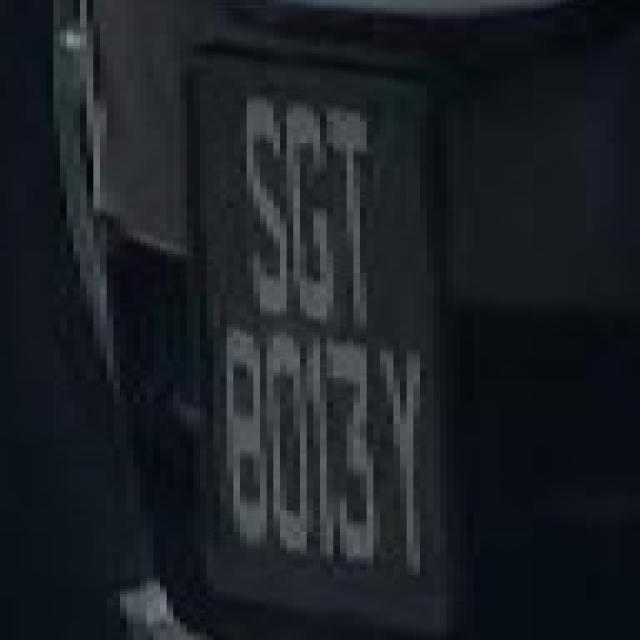0: (258, 333, 314, 558)
1: (302, 338, 336, 560)
3: (324, 341, 384, 565)
8: (220, 327, 267, 548)
G: (287, 101, 333, 328)
S: (230, 99, 290, 315)
T: (324, 108, 369, 329)
Y: (375, 348, 430, 572)
